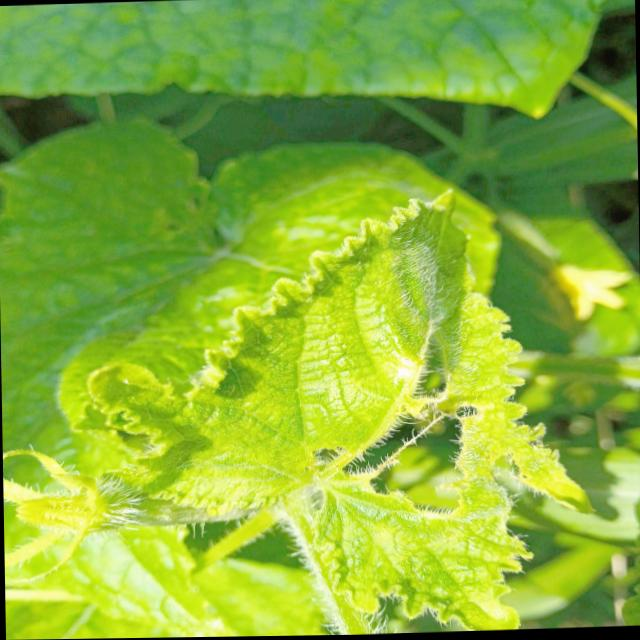Fresh-Leaf: (63, 187, 523, 518)
